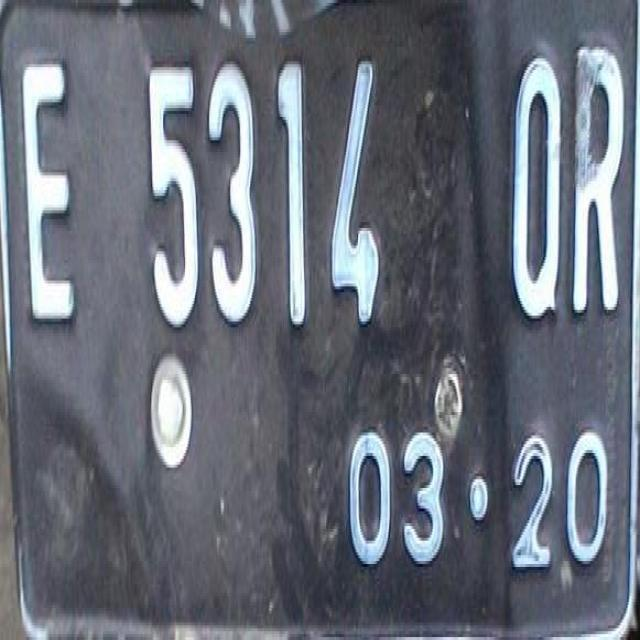1: (268, 54, 317, 344)
3: (204, 56, 260, 346)
4: (324, 49, 384, 344)
5: (142, 51, 204, 341)
E: (18, 29, 81, 336)
Q: (503, 43, 567, 334)
R: (567, 36, 627, 332)
